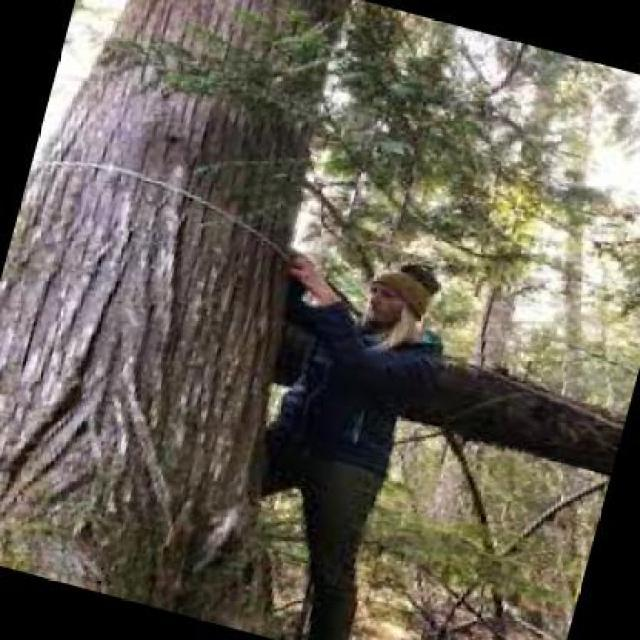poacher: (92, 216, 571, 578)
